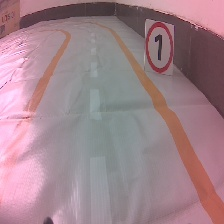limit: (143, 18, 177, 78)
